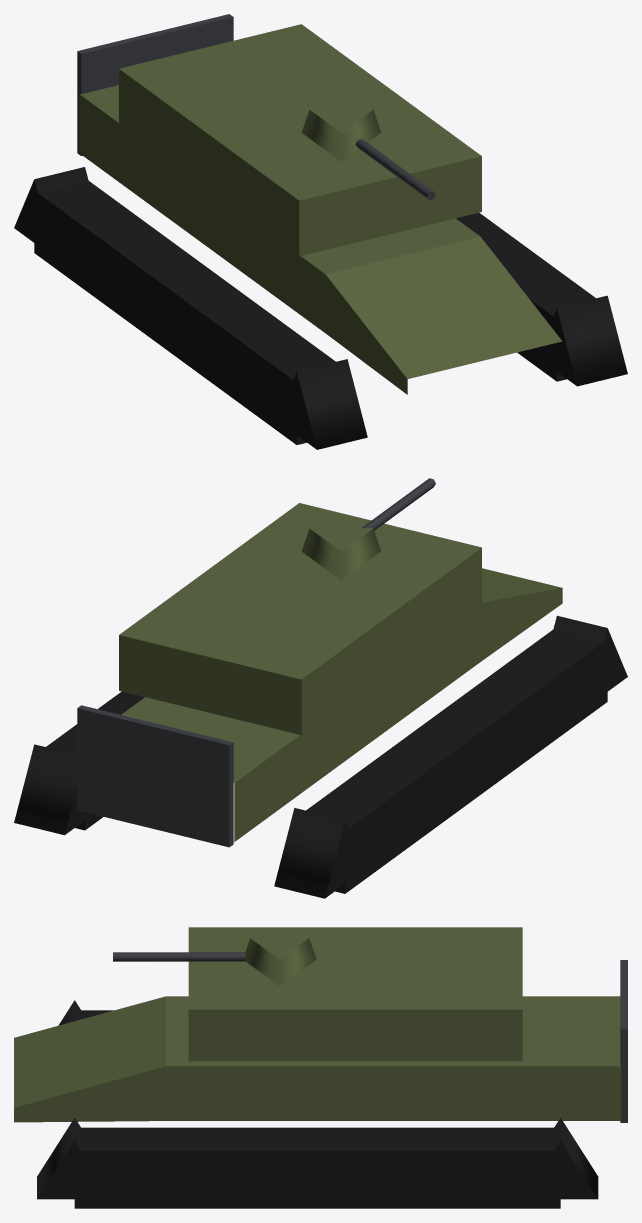
Rendered from veh_ground_apc_tracked_a08_lod2.glb.
The picture shows the model from 3 angles, top to bottom: view 1: azimuth 30°, elevation 25°; view 2: azimuth 150°, elevation 25°; view 3: azimuth 270°, elevation 25°; orthographic projection. The views are drawn at different scales.
Visible parts, largest first — view 1: body, track_r, track_l, ramp, gun; view 2: body, track_r, ramp, track_l, gun; view 3: body, track_l, gun, ramp, track_r.
Boxes of the visible parts, x1,y1,x2,y2 form: body: [79, 24, 562, 394]; track_r: [14, 167, 367, 449]; track_l: [456, 212, 627, 386]; ramp: [77, 14, 233, 155]; gun: [301, 109, 435, 200]; body: [119, 503, 562, 841]; track_r: [274, 615, 627, 898]; ramp: [77, 705, 233, 847]; track_l: [14, 691, 144, 835]; gun: [301, 478, 435, 580]; body: [14, 927, 621, 1122]; track_l: [37, 1117, 598, 1208]; gun: [113, 938, 316, 986]; ramp: [620, 960, 627, 1122]; track_r: [58, 1000, 113, 1025].
Size of the model in its own units: 3.51 by 2.25 by 6.48.
